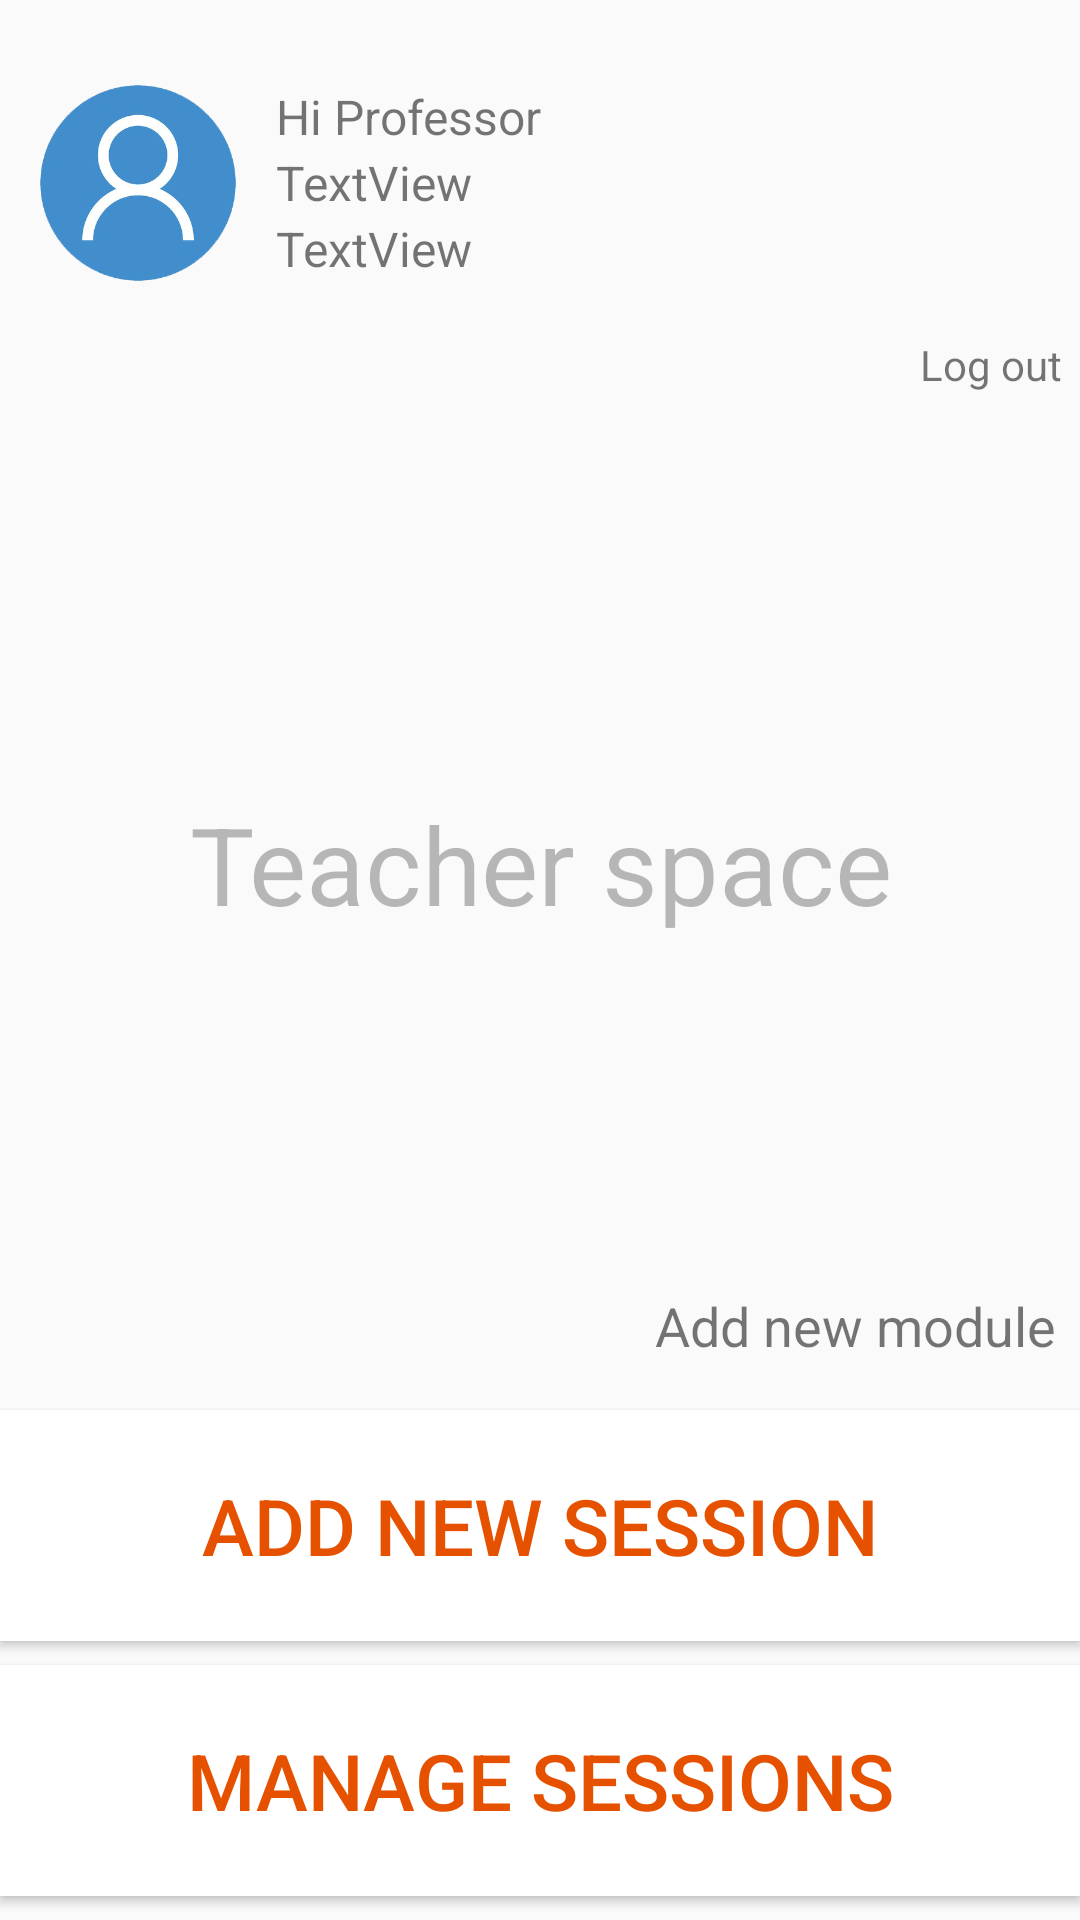

Point at icon controls on the screen. Image size 1080 x 1920, points as (x,y).
userprofile: (138,183)
